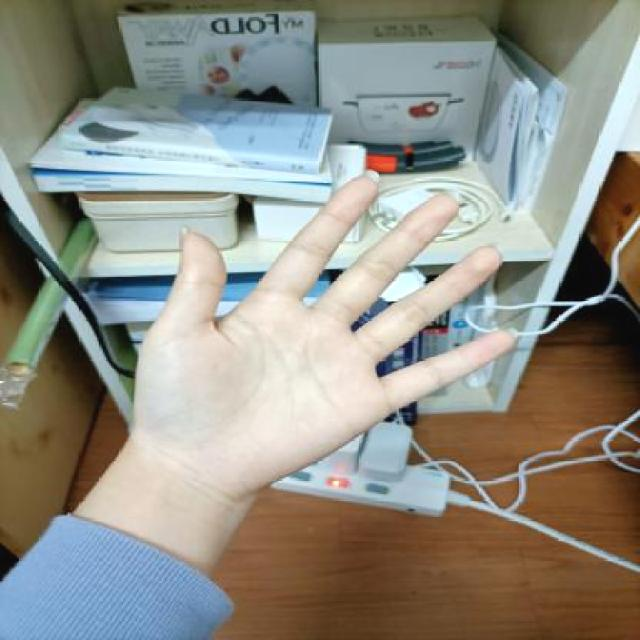no_glove: (112, 155, 532, 514)
